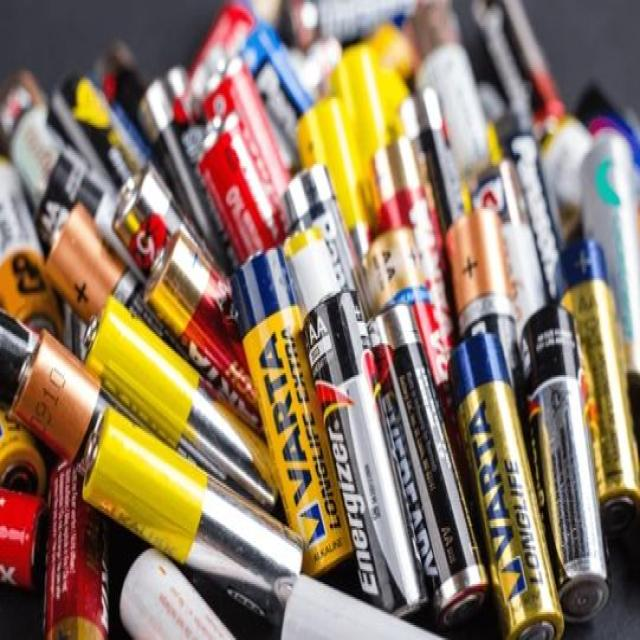electronic: (215, 233, 376, 597)
